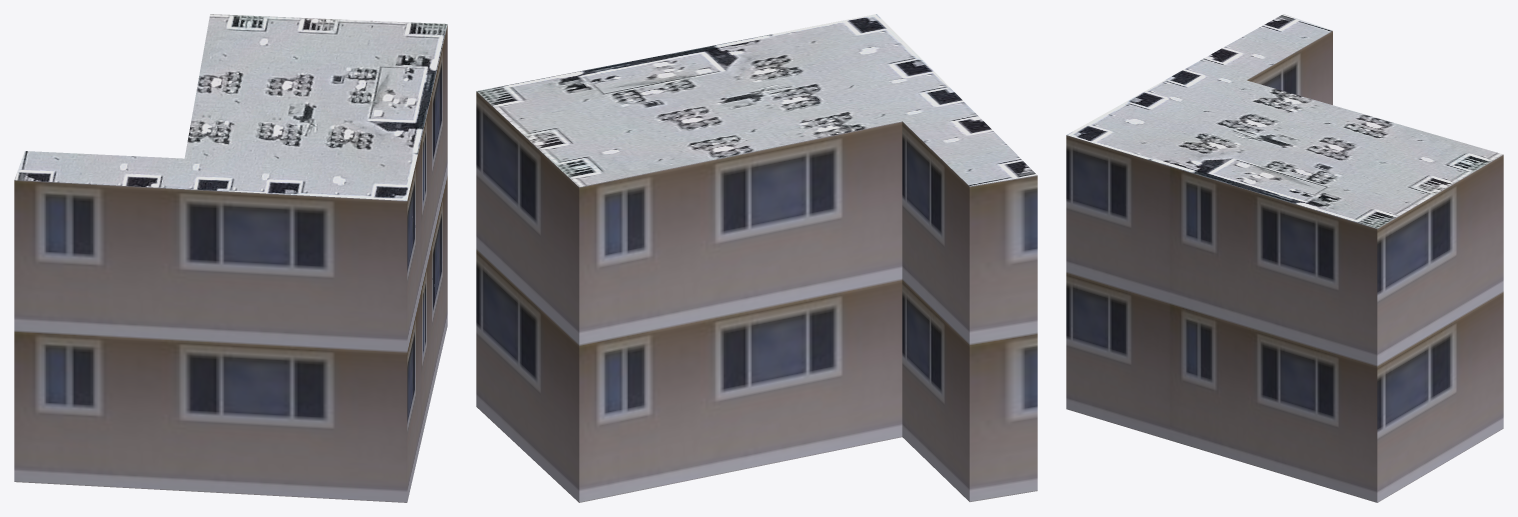
File: ResTex__4714.fbx
3 renders of one model, left to right at view 1: azimuth 30°, elevation 25°; view 2: azimuth 150°, elevation 25°; view 3: azimuth 270°, elevation 25°, orthographic. The views are drawn at different scales.
Parts seen in each view (by area): view 1: CityEngineMaterial_21_m, CityEngineMaterial_8_m; view 2: CityEngineMaterial_21_m, CityEngineMaterial_8_m; view 3: CityEngineMaterial_21_m, CityEngineMaterial_8_m.
Boxes of the visible parts, box(x1,y1,x2,y2) form: CityEngineMaterial_21_m: box(14, 25, 447, 502); CityEngineMaterial_8_m: box(14, 14, 447, 200); CityEngineMaterial_21_m: box(476, 91, 1037, 502); CityEngineMaterial_8_m: box(476, 14, 1036, 186); CityEngineMaterial_21_m: box(1066, 31, 1503, 502); CityEngineMaterial_8_m: box(1067, 14, 1503, 228).
Bounding box in the file's own units: 10.08 × 6 × 8.68.
Materials: 2 (2 with a texture image).
